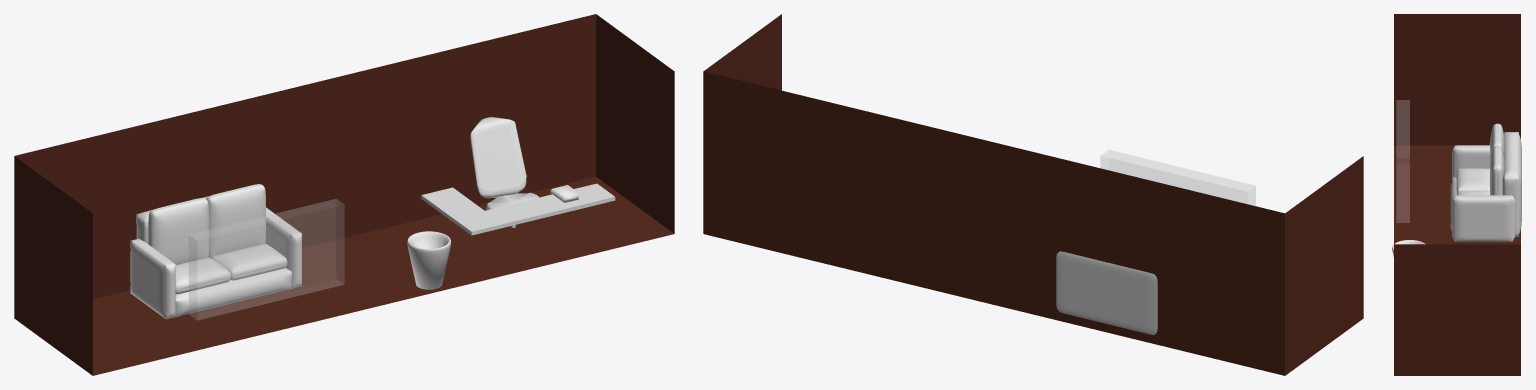
Rendered from background.glb.
3 views of the same model, side by side, from view 1: azimuth 30°, elevation 25°; view 2: azimuth 150°, elevation 25°; view 3: azimuth 270°, elevation 25° (orthographic). The views are drawn at different scales.
Visible parts, largest first — view 1: 背景, 立方體.002, 桌, 立方體.003, 立方體.008, 立方體.005, 立方體.009, 立方體.004, 花盆, 立方體.001, 立方體.006, 立方體; view 2: 背景, 立方體.007, 立方體.002; view 3: 背景, 立方體.006, 立方體.002, 立方體.007, 立方體.009, 立方體, 立方體.008, 立方體.005, 立方體.004, 立方體.001, 花盆.
Boxes of the visible parts, bbox=[...] form: 背景: bbox=[14, 14, 674, 375]; 立方體.002: bbox=[189, 199, 344, 320]; 桌: bbox=[421, 183, 615, 235]; 立方體.003: bbox=[470, 117, 526, 198]; 立方體.008: bbox=[206, 184, 265, 258]; 立方體.005: bbox=[148, 198, 209, 264]; 立方體.009: bbox=[130, 238, 175, 319]; 立方體.004: bbox=[175, 268, 291, 316]; 花盆: bbox=[407, 231, 450, 289]; 立方體.001: bbox=[211, 244, 287, 280]; 立方體.006: bbox=[265, 207, 301, 288]; 立方體: bbox=[175, 257, 230, 294]; 背景: bbox=[703, 14, 1363, 375]; 立方體.007: bbox=[1056, 251, 1157, 335]; 立方體.002: bbox=[1100, 150, 1255, 205]; 背景: bbox=[1394, 14, 1520, 375]; 立方體.006: bbox=[1452, 195, 1515, 241]; 立方體.002: bbox=[1396, 100, 1409, 222]; 立方體.007: bbox=[1502, 132, 1521, 236]; 立方體.009: bbox=[1452, 145, 1489, 181]; 立方體: bbox=[1456, 168, 1489, 193]; 立方體.008: bbox=[1490, 146, 1504, 195]; 立方體.005: bbox=[1490, 123, 1504, 164]; 立方體.004: bbox=[1450, 177, 1456, 231]; 立方體.001: bbox=[1457, 190, 1489, 195]; 花盆: bbox=[1392, 240, 1425, 257].
Bounding box in the file's own units: 59.91 × 16.07 × 14.28.
